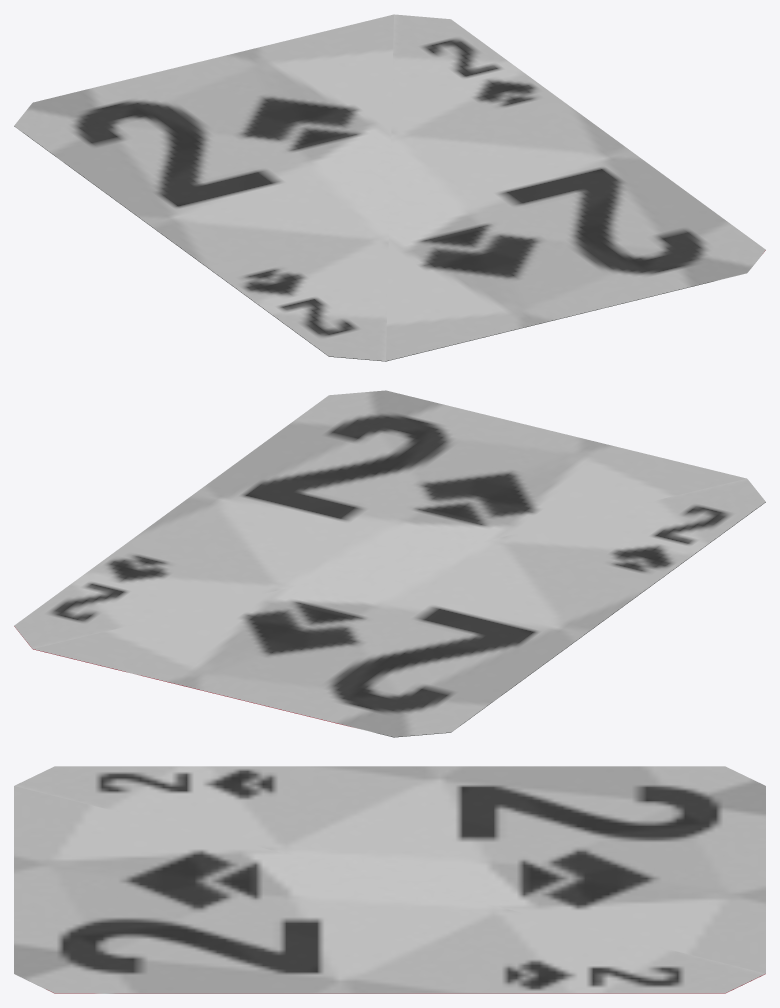
The model's file is PlayingCards_2Spades.fbx.
The picture shows the model from 3 angles, top to bottom: view 1: azimuth 30°, elevation 25°; view 2: azimuth 150°, elevation 25°; view 3: azimuth 270°, elevation 25°; orthographic projection. The views are drawn at different scales.
Visible parts, largest first — view 1: PlayingCards_2Spades; view 2: PlayingCards_2Spades; view 3: PlayingCards_2Spades.
Boxes of the visible parts, <box> form: PlayingCards_2Spades: <box>14,14,765,361</box>; PlayingCards_2Spades: <box>14,390,765,737</box>; PlayingCards_2Spades: <box>14,766,765,993</box>.
Bounding box in the file's own units: 6.35 × 0.00499 × 8.89.
